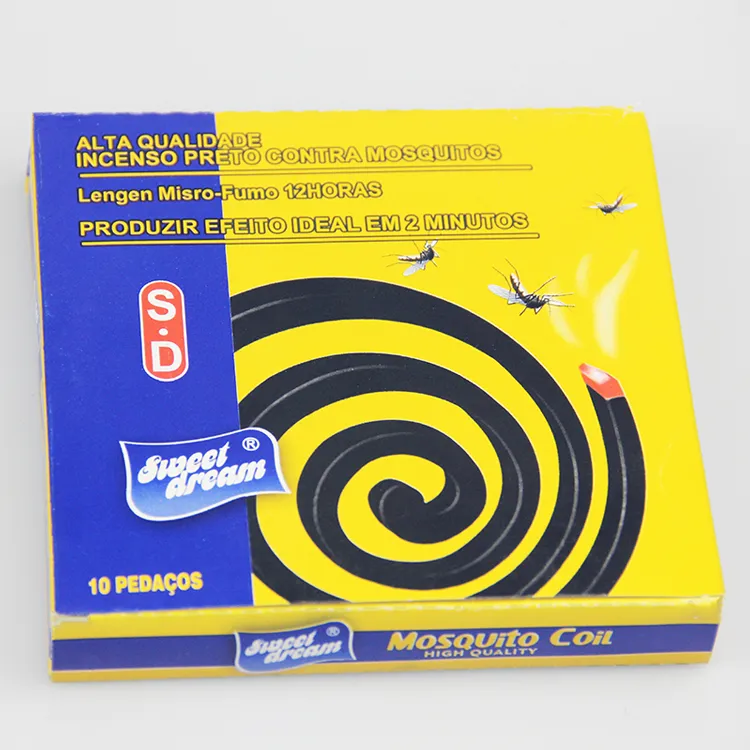Open-Flame-Hazard: (221, 263, 643, 597)
